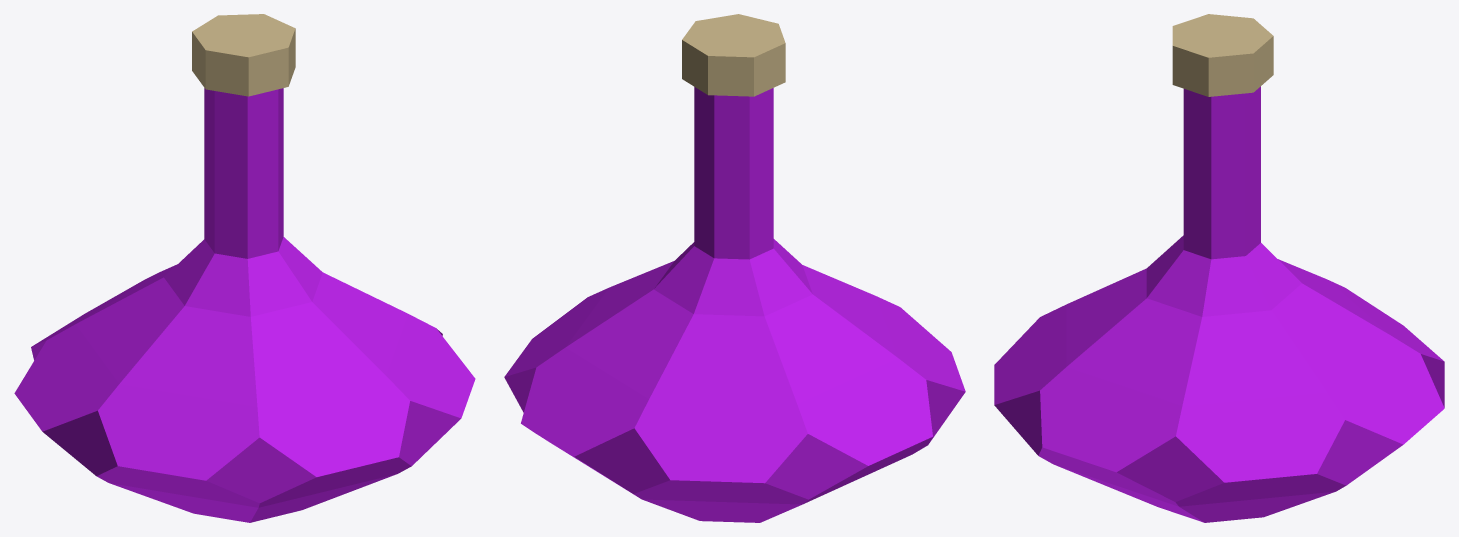
File: Potion_18.fbx
The picture shows the model from 3 angles, left to right: view 1: azimuth 30°, elevation 25°; view 2: azimuth 150°, elevation 25°; view 3: azimuth 270°, elevation 25°; orthographic projection.
Visible parts, largest first — view 1: Potion_18; view 2: Potion_18; view 3: Potion_18.
Boxes of the visible parts, box(x1,y1,x2,y2) form: Potion_18: box(14, 14, 475, 522); Potion_18: box(504, 14, 965, 522); Potion_18: box(994, 14, 1444, 522).
Size of the model in its own units: 17.35 by 18.99 by 16.91.
